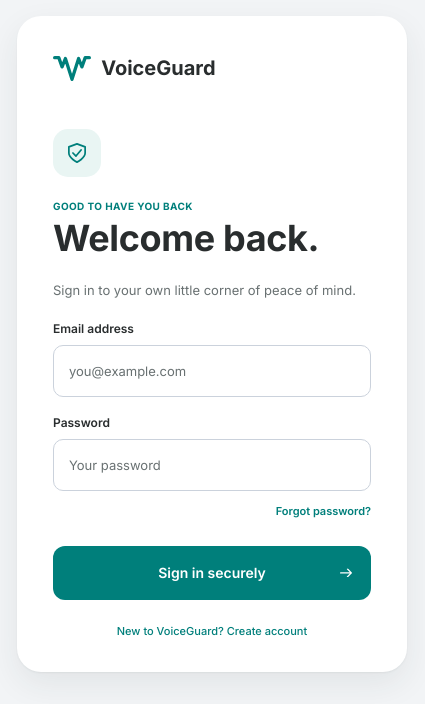
SignInPage › says the credentials are wrong without marking either field
This screenshot has width=425, height=704.
Step 1. Type " sam@example.com " into the field labelled "Email address" → (212,371), box x1=53 y1=345 x2=371 y2=397
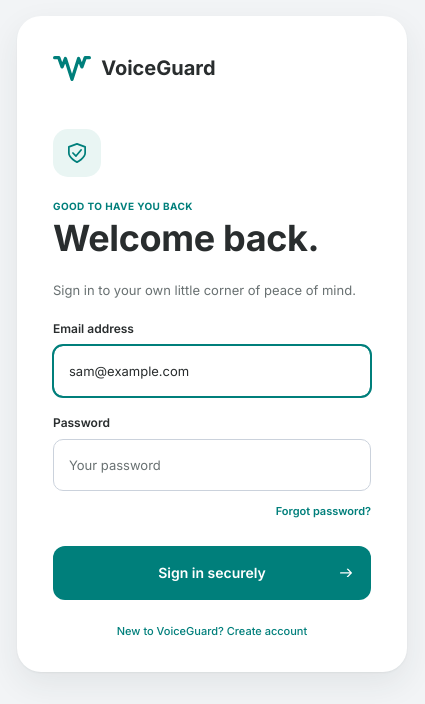
Step 2. Type "Correct-horse-9" into the password field labelled "Password" → (212,465), box x1=53 y1=439 x2=371 y2=491
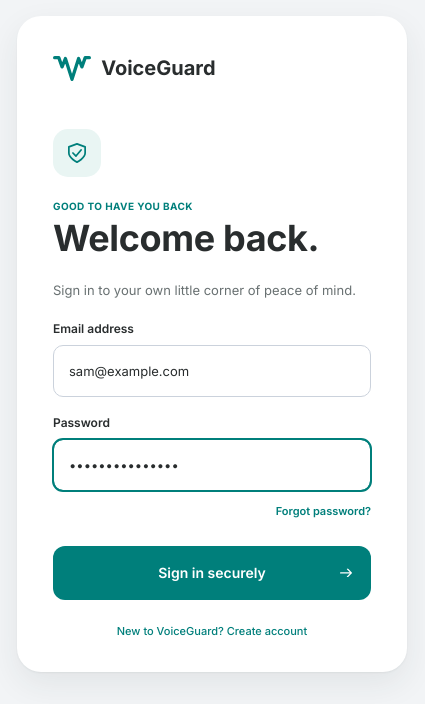
Step 3. Click the button "Sign in securely" → (212,573), box x1=53 y1=546 x2=371 y2=600
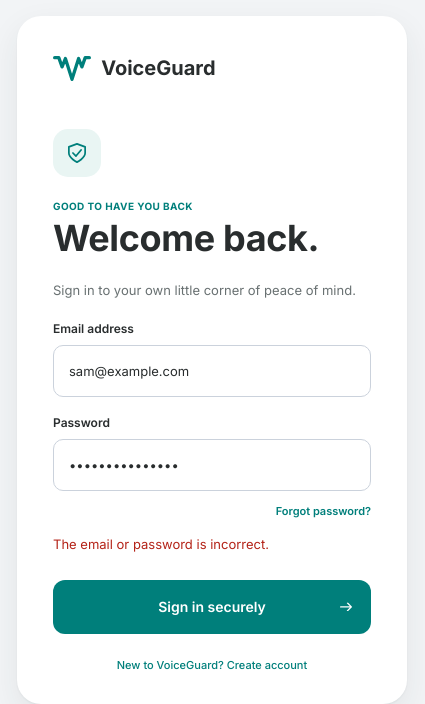
Check: the message reads "The email or password is incorrect.", box x1=53 y1=536 x2=269 y2=552
